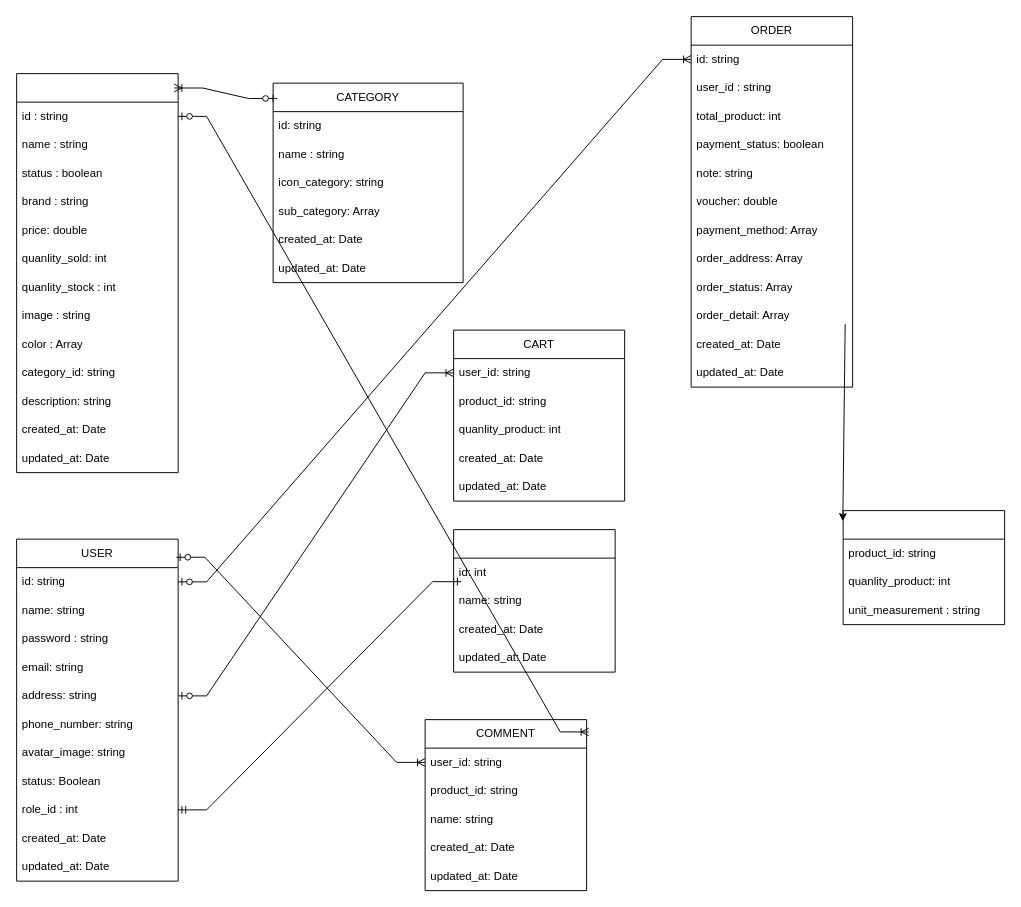
The diagram is 1021 pixels wide and 907 high, and some of its shapes have lost their labels. The shapes that lost their labels are listed below. From the top down, each one's box as (x1, y1, x2, y2) in pixels, then its label:
(16, 73, 178, 473): PRODUCT
(842, 510, 1005, 625): ORDER_DETAIL
(453, 529, 615, 672): ROLE
